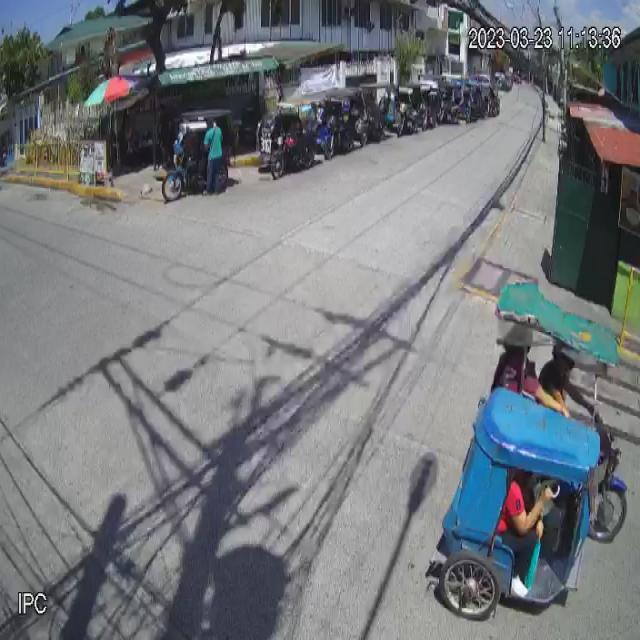Tricycle: (434, 282, 628, 617)
